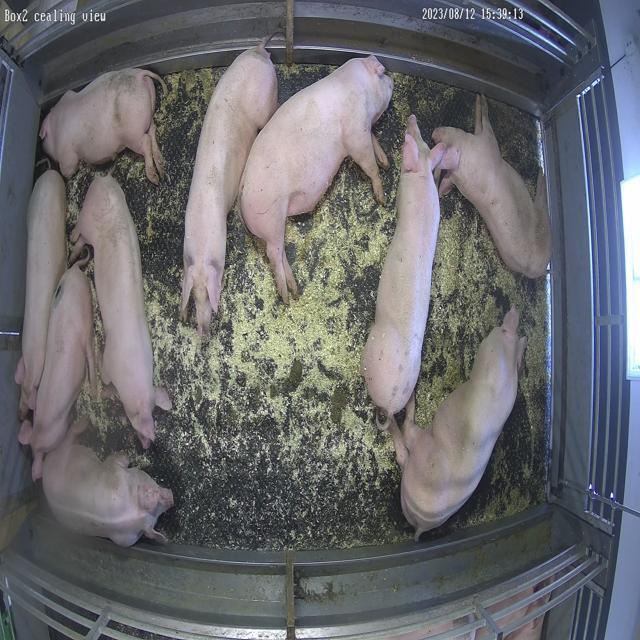Dirt: (393, 73, 476, 144), (490, 99, 543, 186), (281, 359, 304, 396), (331, 385, 350, 424)
Pig: (242, 55, 394, 302), (388, 307, 528, 540), (182, 43, 278, 336), (363, 115, 444, 420), (72, 174, 155, 448), (433, 95, 552, 278), (42, 420, 173, 548), (26, 261, 94, 480), (39, 68, 163, 184), (15, 169, 65, 418)
